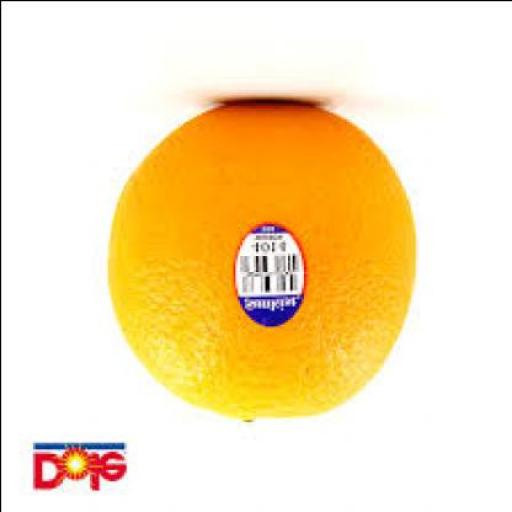biodegradable: (105, 103, 412, 425)
